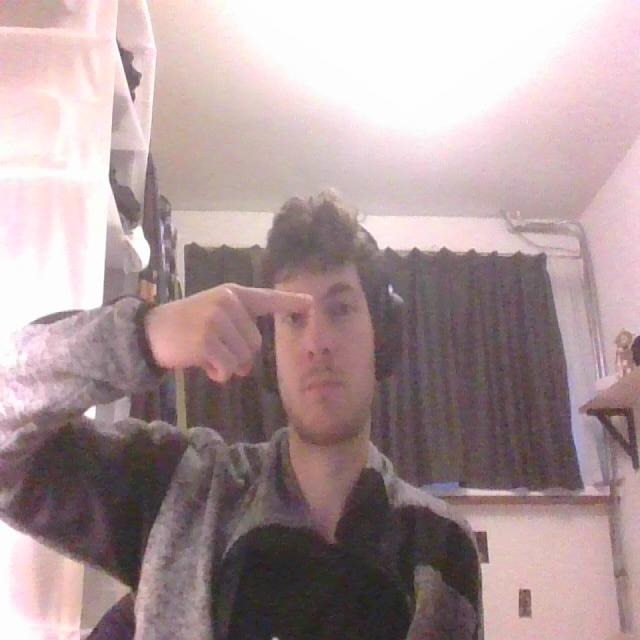right: (142, 281, 316, 390)
